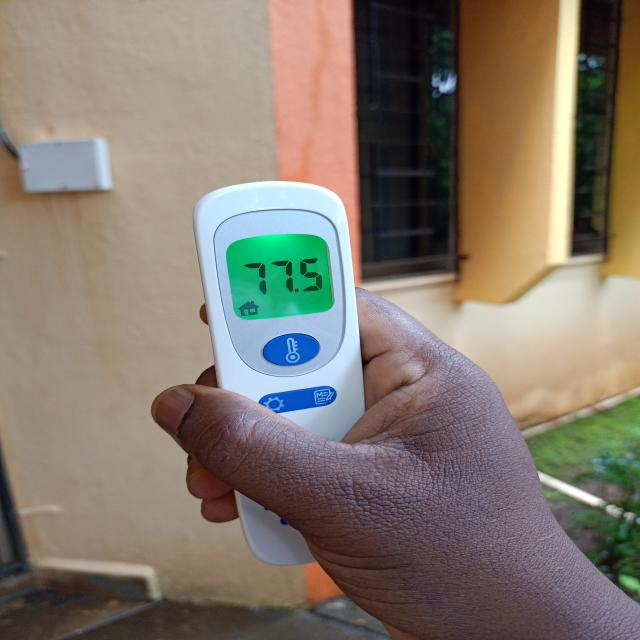display: (224, 233, 337, 322)
frame: (239, 251, 327, 303)
gauge: (194, 180, 368, 574)
